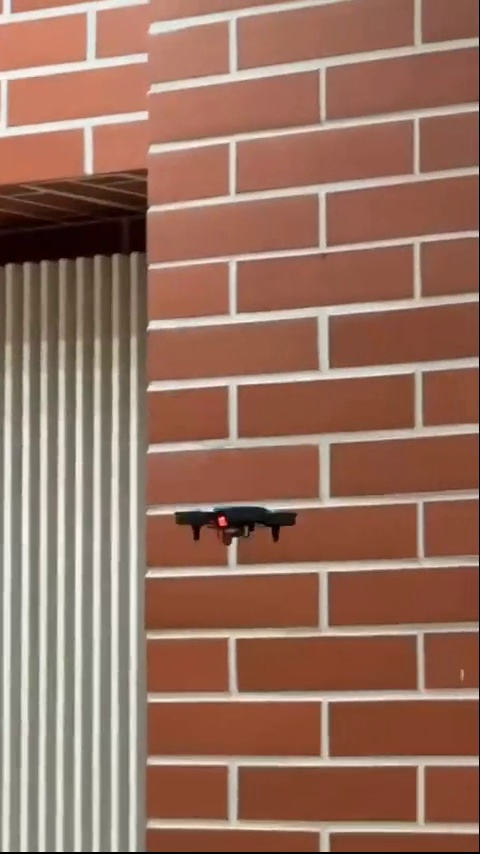drone: (172, 499, 306, 539)
